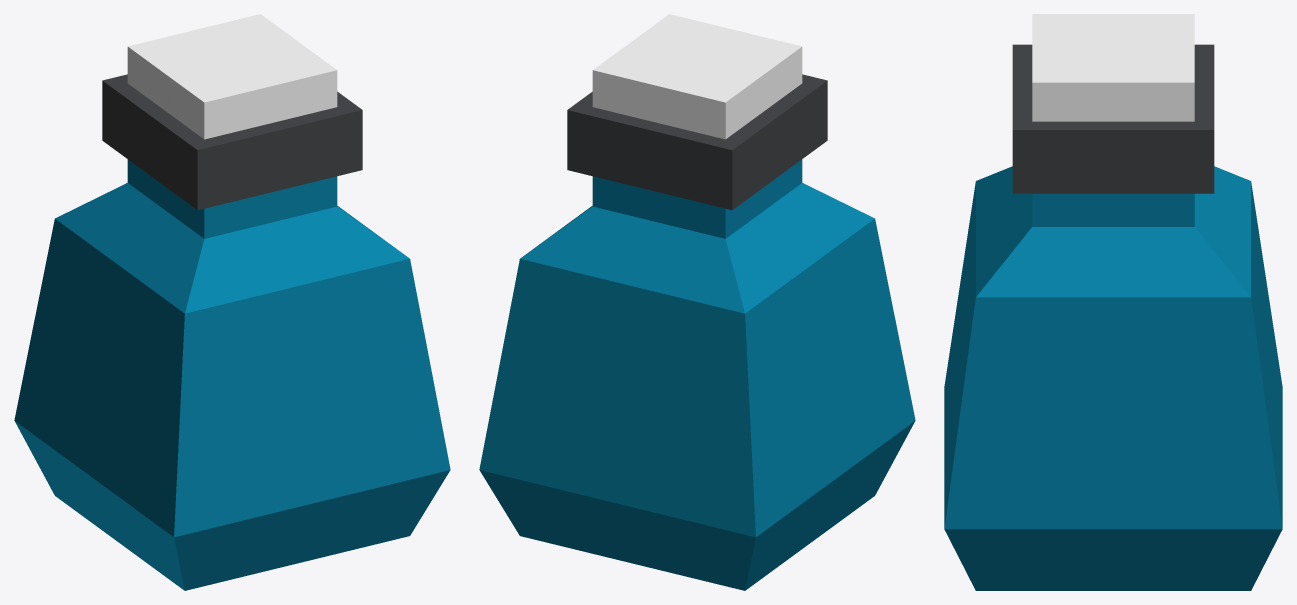
The model's file is poçãoLowPolly.fbx.
3 renders of one model, left to right at view 1: azimuth 30°, elevation 25°; view 2: azimuth 150°, elevation 25°; view 3: azimuth 270°, elevation 25°, orthographic. The views are drawn at different scales.
Parts seen in each view (by area): view 1: Cube; view 2: Cube; view 3: Cube.
Part boxes in pixels (x1=…): Cube: x1=14, y1=14, x2=450, y2=590; Cube: x1=479, y1=14, x2=915, y2=590; Cube: x1=944, y1=14, x2=1282, y2=590.
Size of the model in its own units: 246 by 388 by 246.
1 material, 1 textured.
